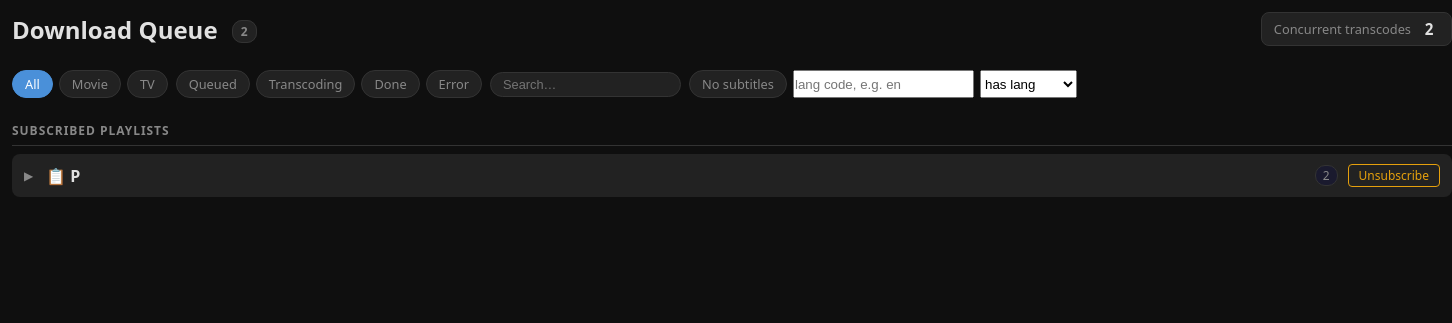
Scenario: QueueView › DONE items appear in Done sub-section
Click the element with test id "group-header-playlist-5" at (732, 176), box [12,154,1451,197]
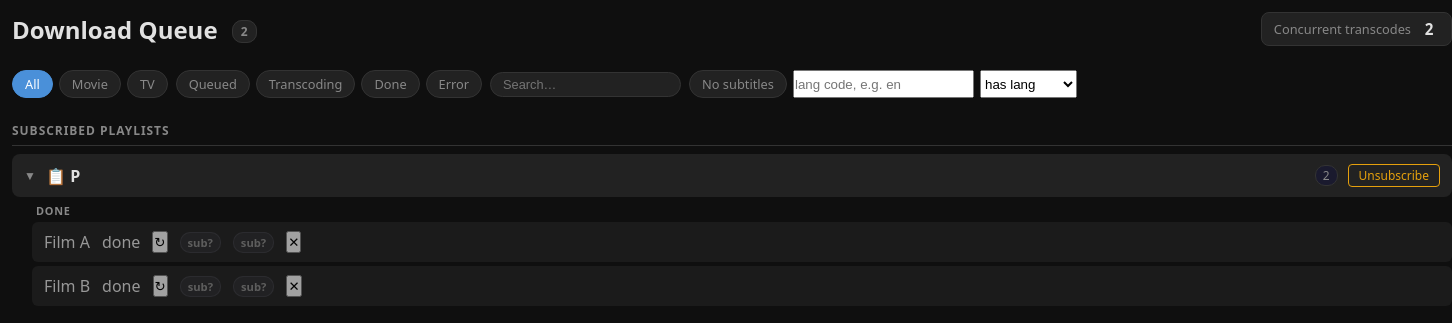
Now the text "DONE" is shown, box [36,203,71,218]
Now the number of elements with test id "queue-item-row" is 2, box [32,222,1451,262]; [32,266,1451,306]
